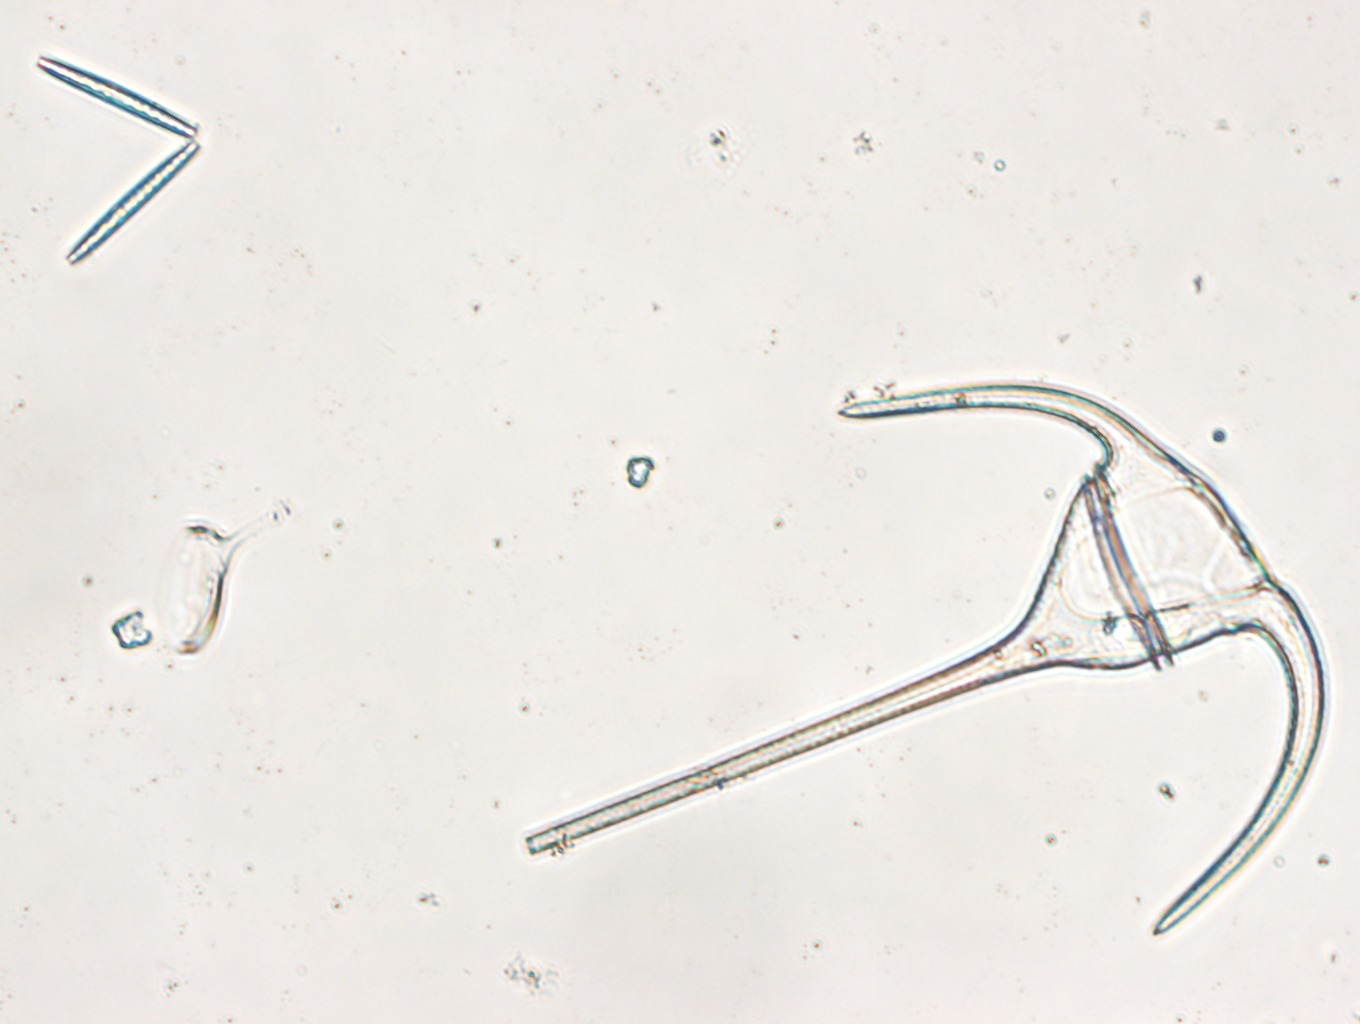ceratium trichoceros: (522, 376, 1337, 941)
thalassionema nitzschioides: (32, 52, 205, 269)
